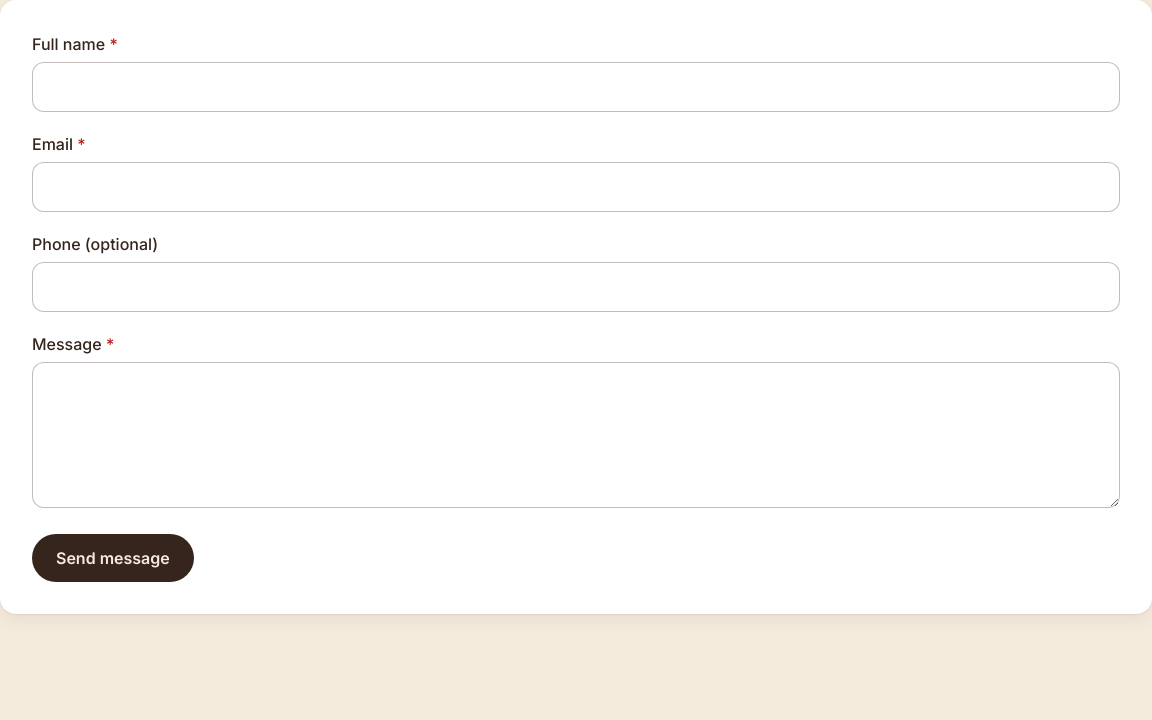
Test: EnquiryForm › shows an error when the API fails and re-enables the button
The image size is (1152, 720).
Type "Sam" into the field labelled "Full name *" at (576, 87), box [32,62,1120,112]
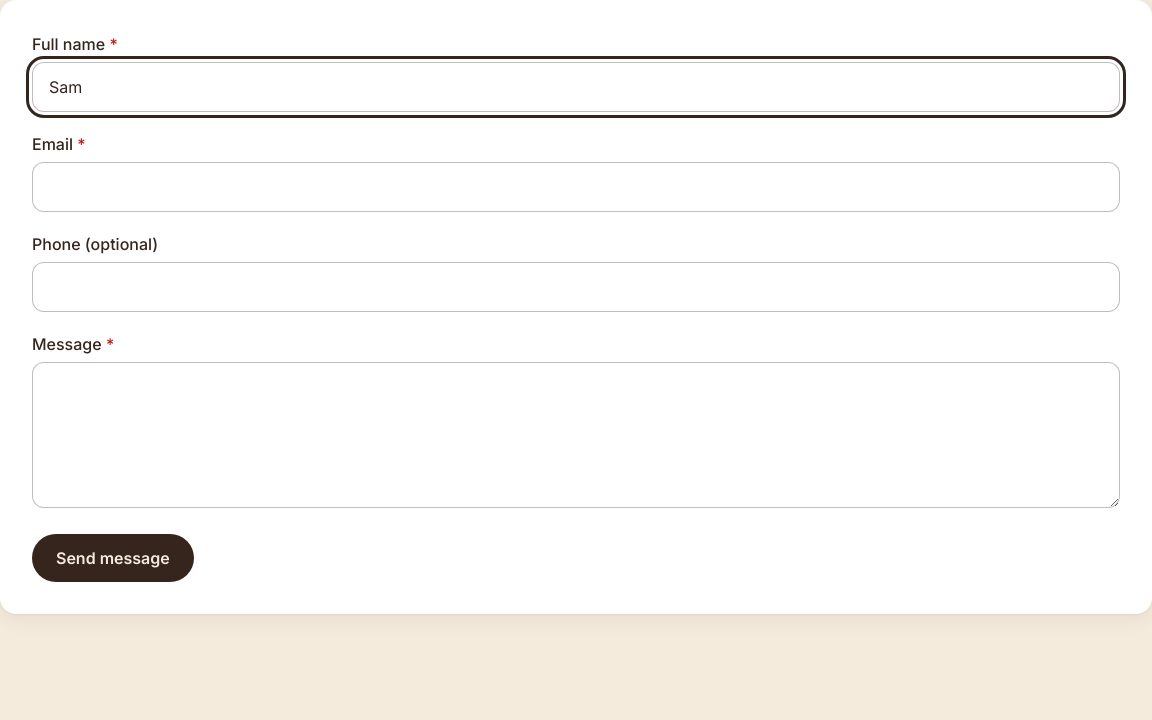
Type "sam@example.com" into the field labelled "Email *" at (576, 187), box [32,162,1120,212]
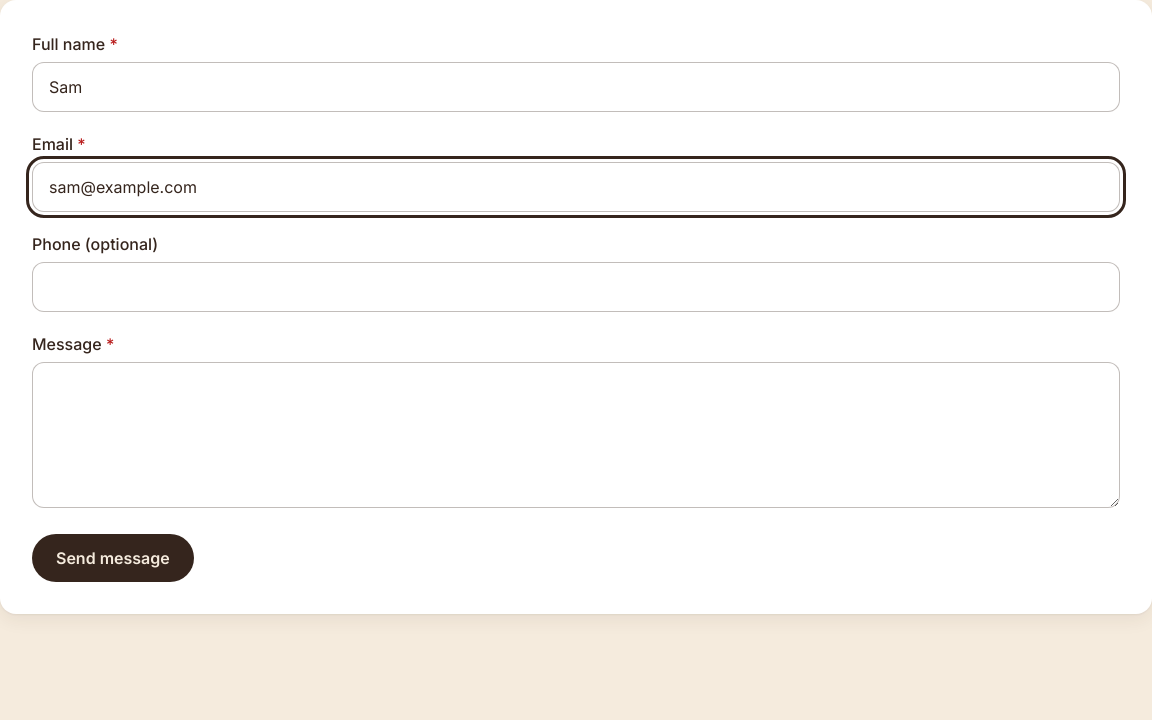
Type "Do you host events?" into the text box labelled "Message *" at (576, 435), box [32,362,1120,508]
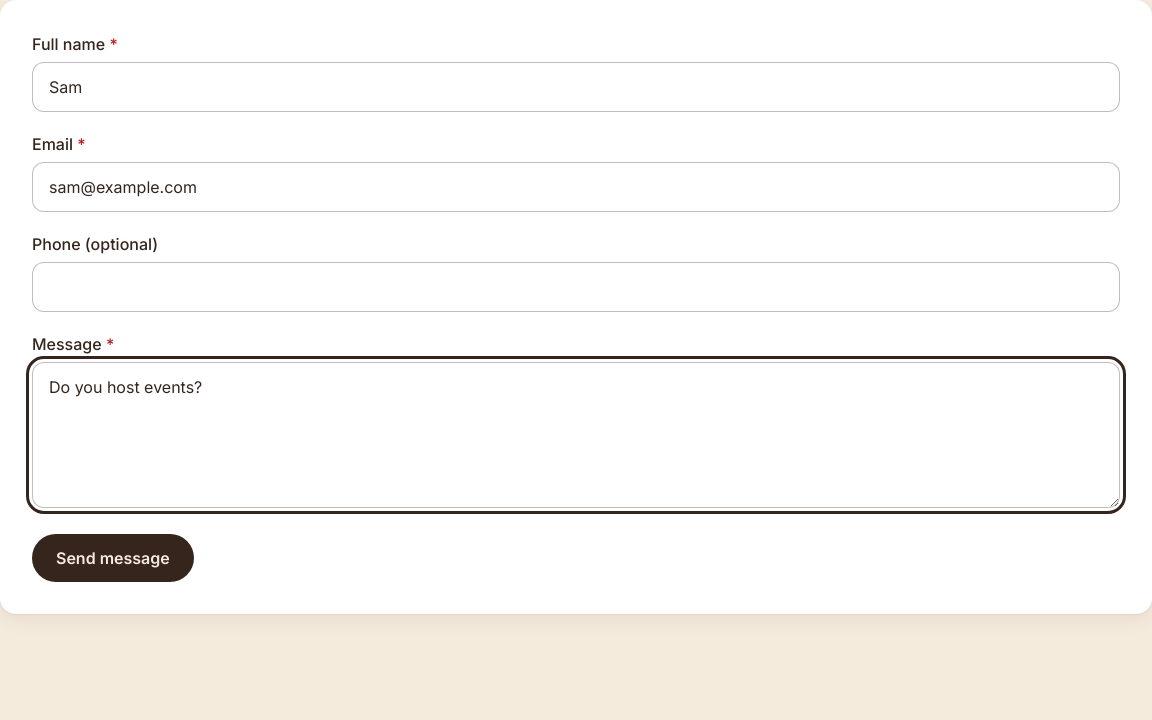
Click the button "Send message" at (113, 558), box [32,534,194,582]
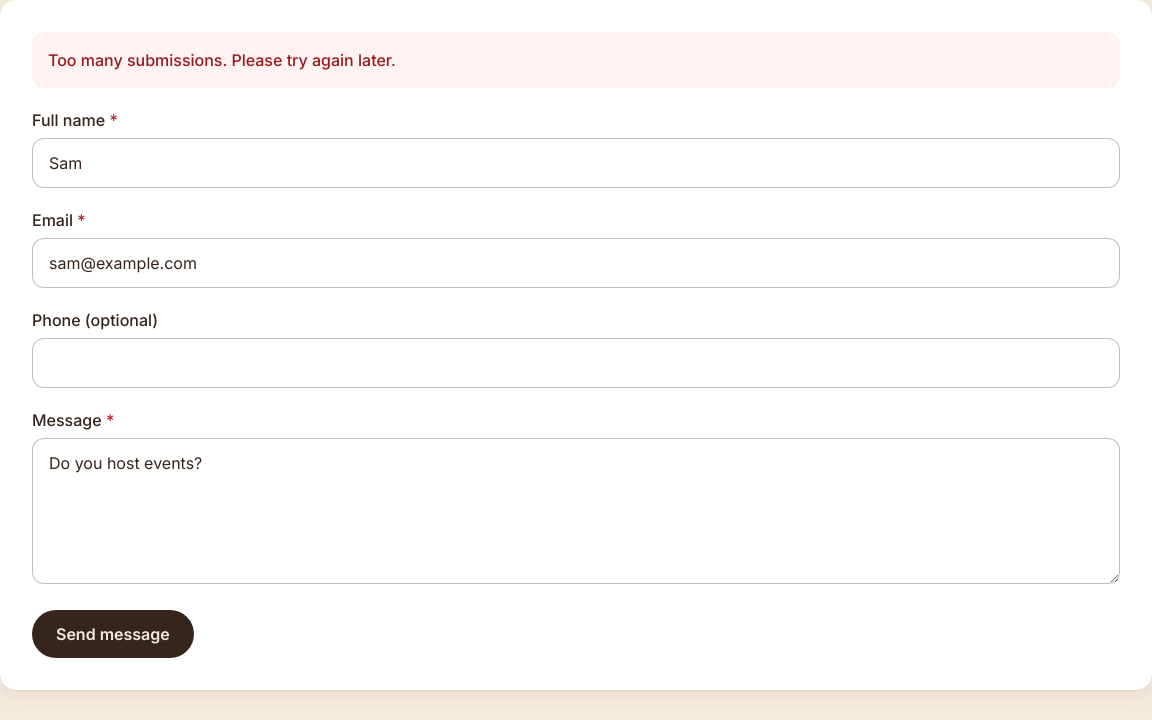
Expected: the button "Send message" is enabled, [32,610,194,658]
Result: the message shows "Too many submissions" at [48,50,396,70]
